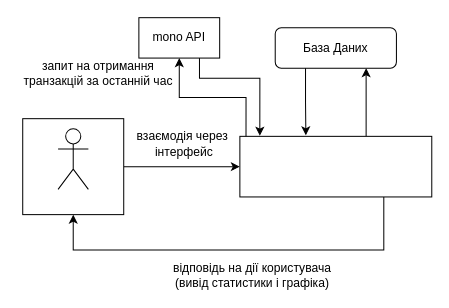
Some shapes in this 449 by 308 pixel diagram are drawn without their labels. The shapes that lost their labels are listed below. From the top down, each one's centre as x and y in pixels, then its label:
(x=72, y=158): Користувач
(x=335, y=166): Система управління фінансами (android застосунок)
